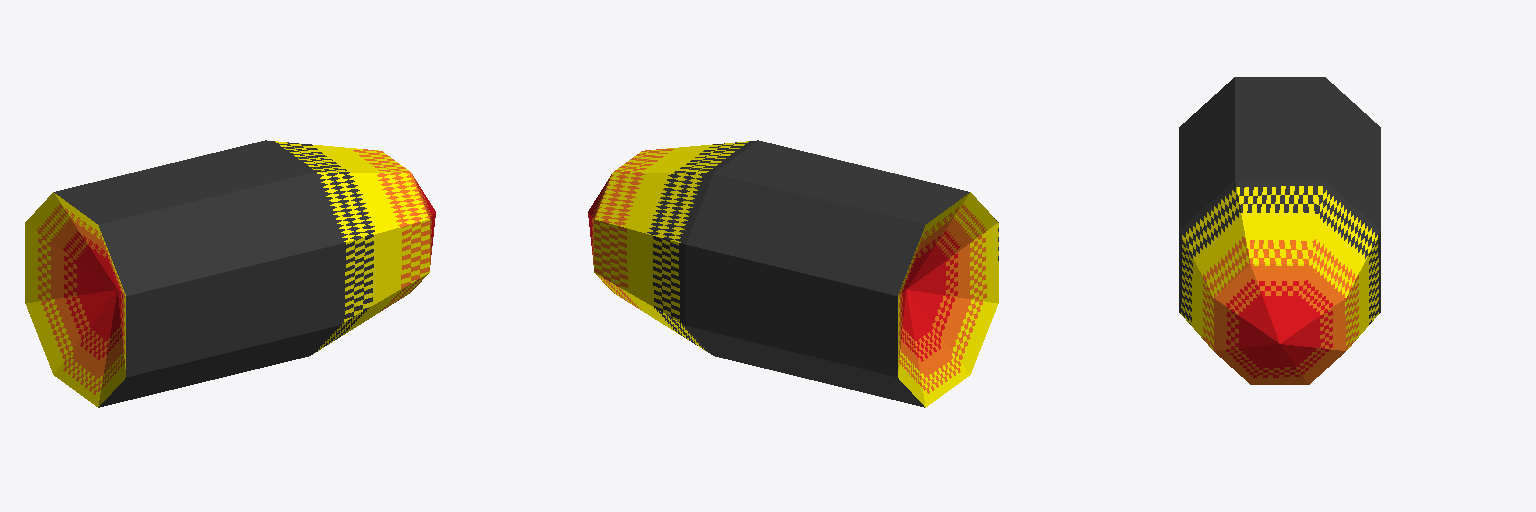
3 views of the same model, side by side, from view 1: azimuth 30°, elevation 25°; view 2: azimuth 150°, elevation 25°; view 3: azimuth 270°, elevation 25° (orthographic).
Parts seen in each view (by area): view 1: bazooka_projectile; view 2: bazooka_projectile; view 3: bazooka_projectile.
Part boxes in pixels (bbox=[...]): bazooka_projectile: bbox=[25, 140, 435, 407]; bazooka_projectile: bbox=[588, 140, 998, 407]; bazooka_projectile: bbox=[1179, 77, 1380, 384].
Size of the model in its own units: 4.12 by 2 by 2.
Materials: 1 (1 with a texture image).